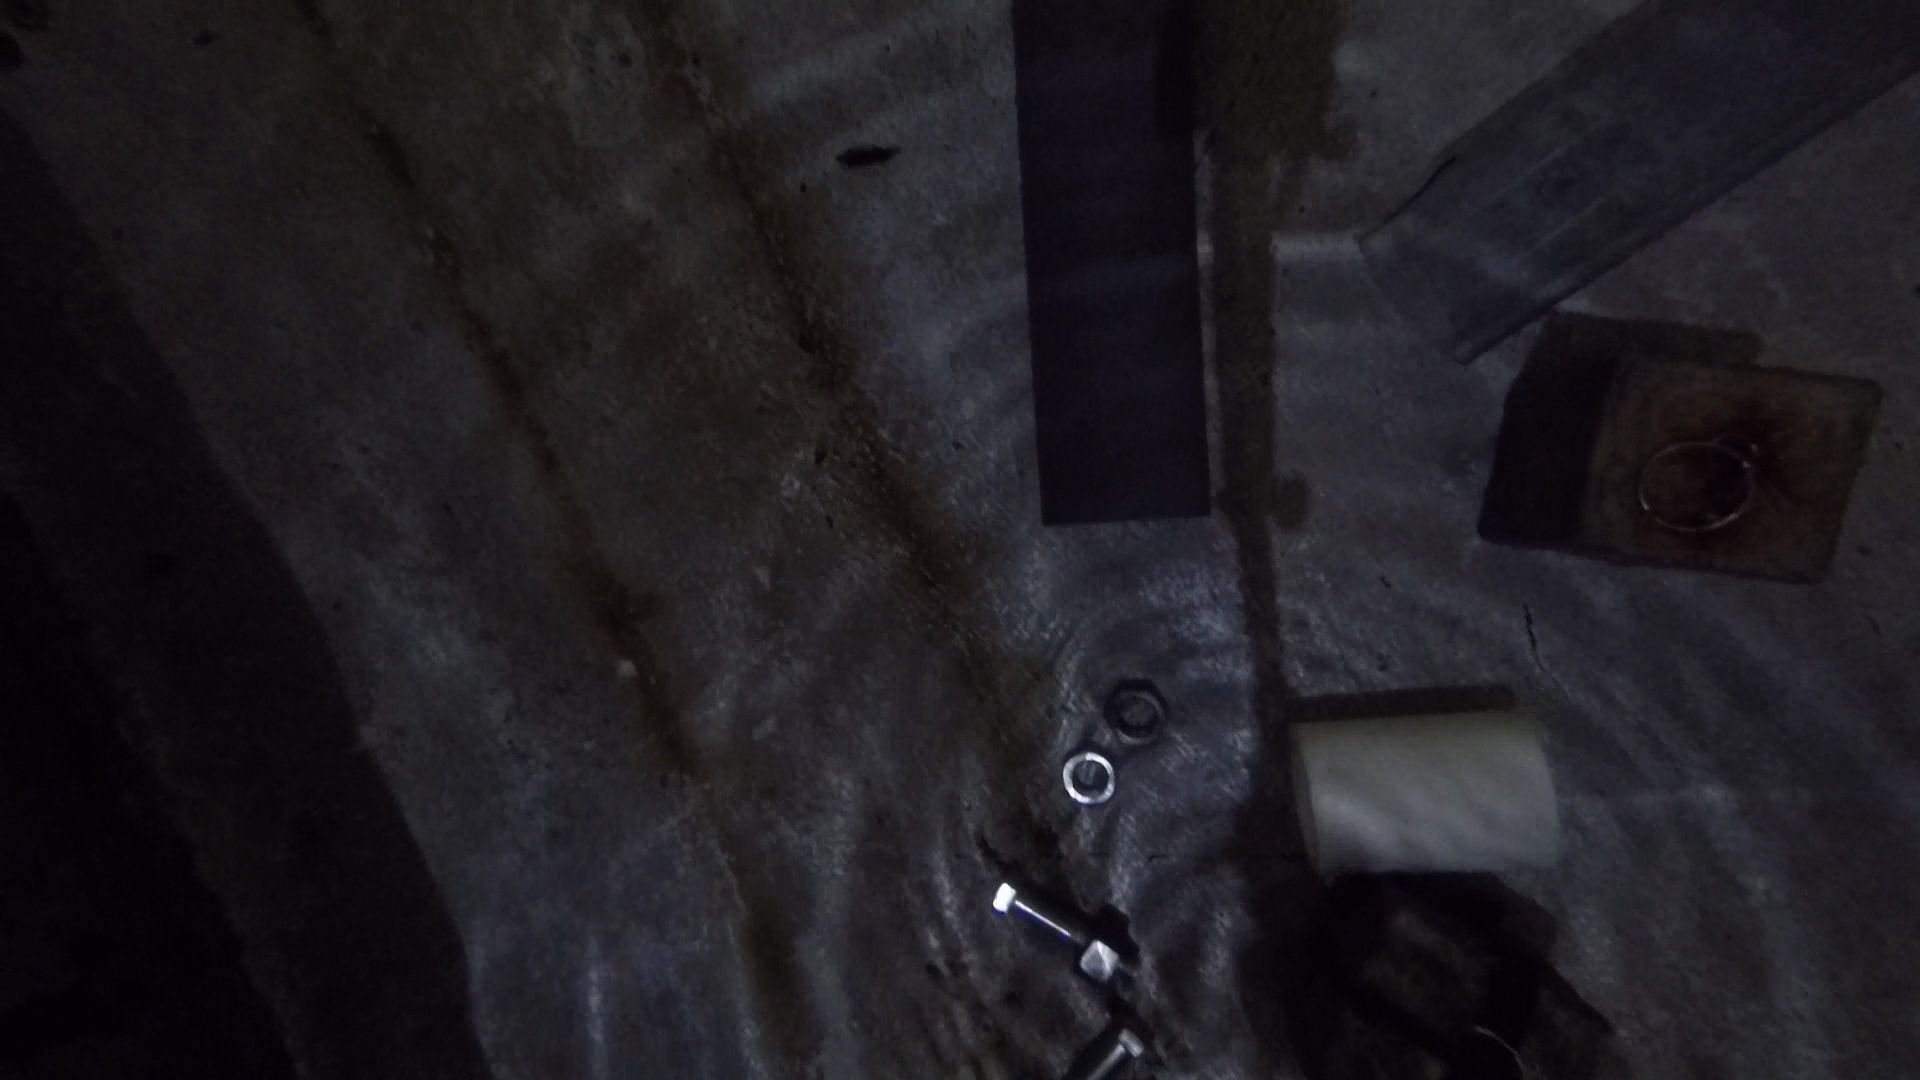bolt: (990, 876, 1141, 978), (1080, 1025, 1149, 1080)
led_block: (1296, 881, 1625, 1080)
nut: (1105, 680, 1168, 750), (1062, 741, 1118, 808), (1073, 922, 1127, 986)
pipe: (1356, 1, 1920, 363), (1007, 1, 1212, 527), (1480, 349, 1884, 585), (1286, 707, 1561, 884)
